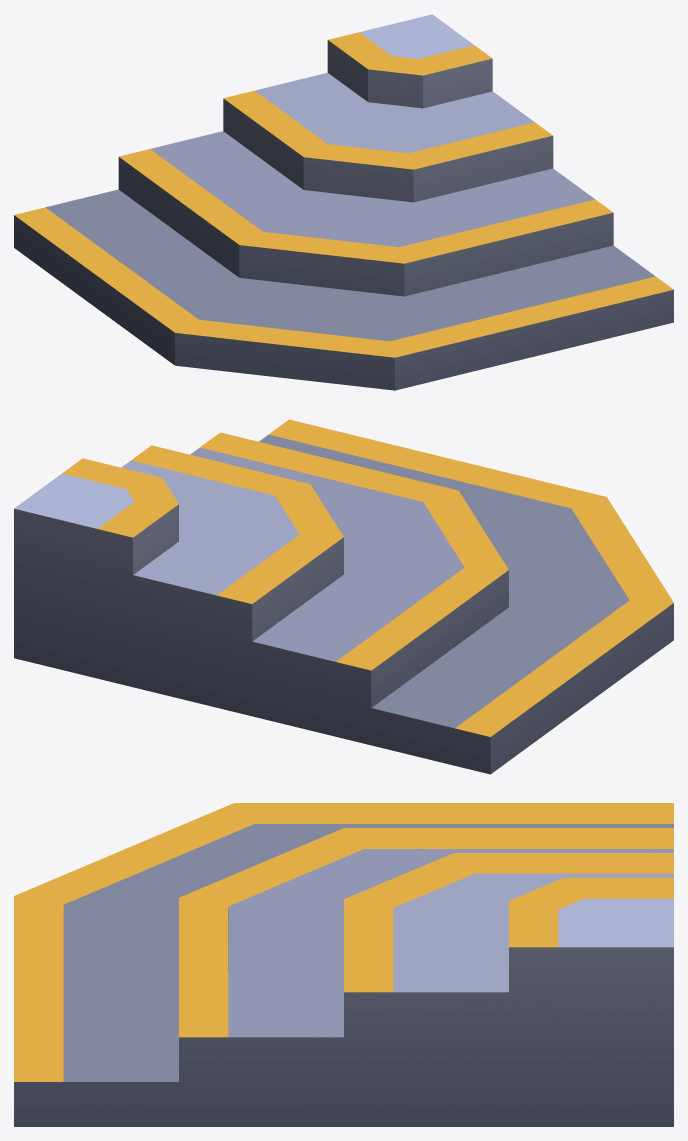
File: stairs-corner.glb
The picture shows the model from 3 angles, top to bottom: view 1: azimuth 30°, elevation 25°; view 2: azimuth 150°, elevation 25°; view 3: azimuth 270°, elevation 25°; orthographic projection. The views are drawn at different scales.
Parts seen in each view (by area): view 1: stairs-corner; view 2: stairs-corner; view 3: stairs-corner.
Boxes of the visible parts, bbox=[...] form: stairs-corner: bbox=[14, 14, 673, 390]; stairs-corner: bbox=[14, 419, 673, 774]; stairs-corner: bbox=[14, 803, 673, 1126].
Bounding box in the file's own units: 1 × 0.3 × 1.
Materials: 1 (1 with a texture image).
